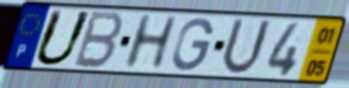4: (265, 22, 300, 78)
B: (70, 9, 127, 71)
G: (171, 17, 216, 73)
H: (120, 13, 181, 71)
U: (31, 7, 95, 68), (218, 16, 274, 78)
